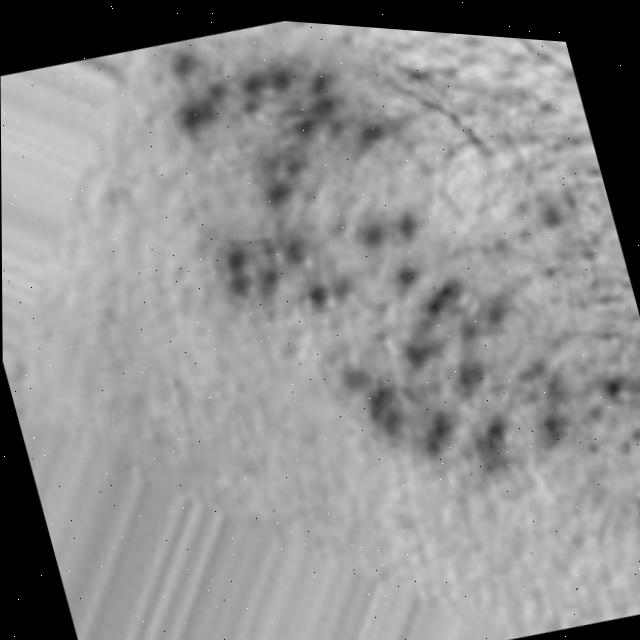Shingles: (155, 11, 620, 547)
